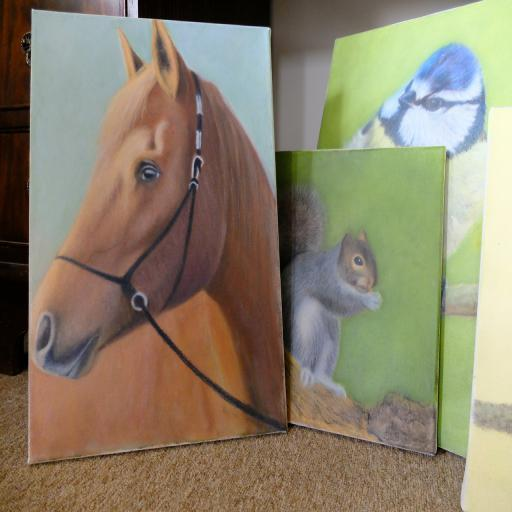horse: (27, 16, 289, 466)
